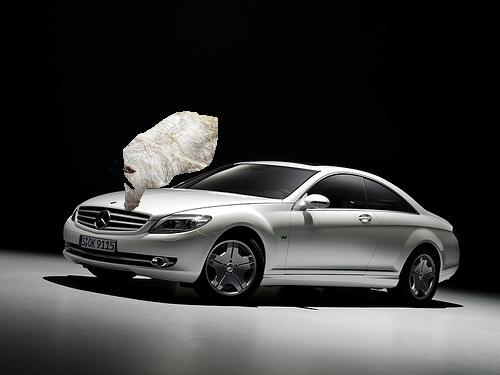tampered: (110, 112, 218, 211)
